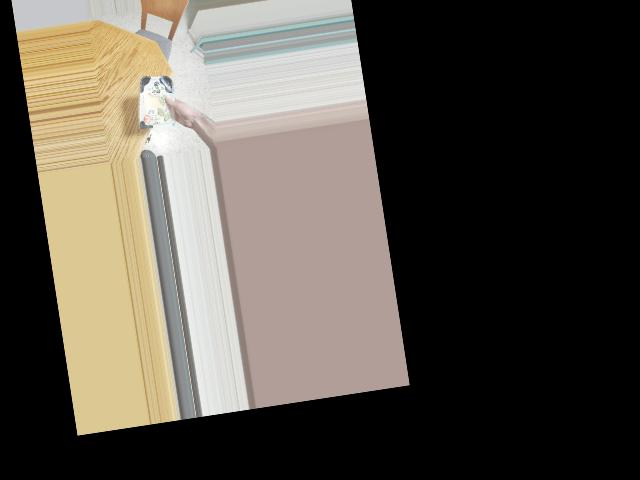cheese: (131, 73, 185, 131)
